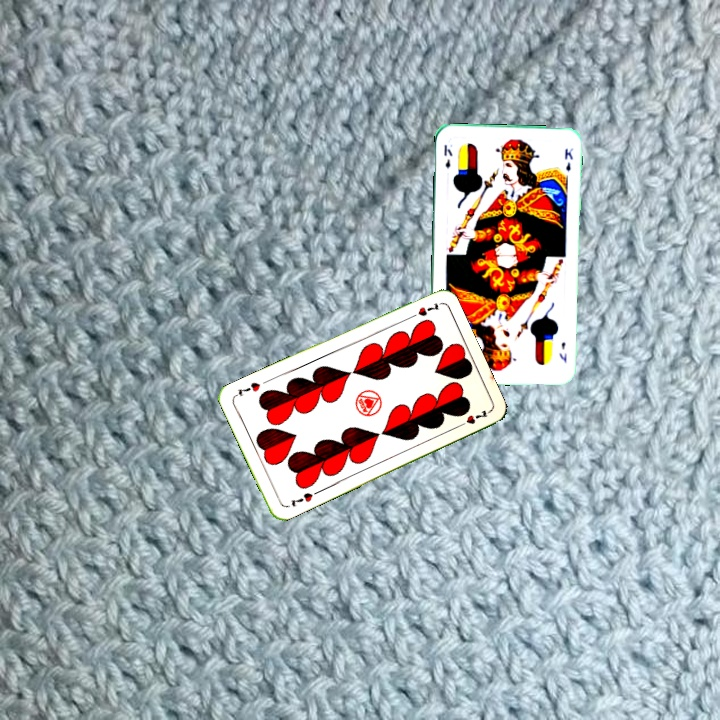EK: (440, 141, 455, 171), (555, 338, 569, 365)
H7: (404, 299, 443, 322), (286, 488, 315, 509)
